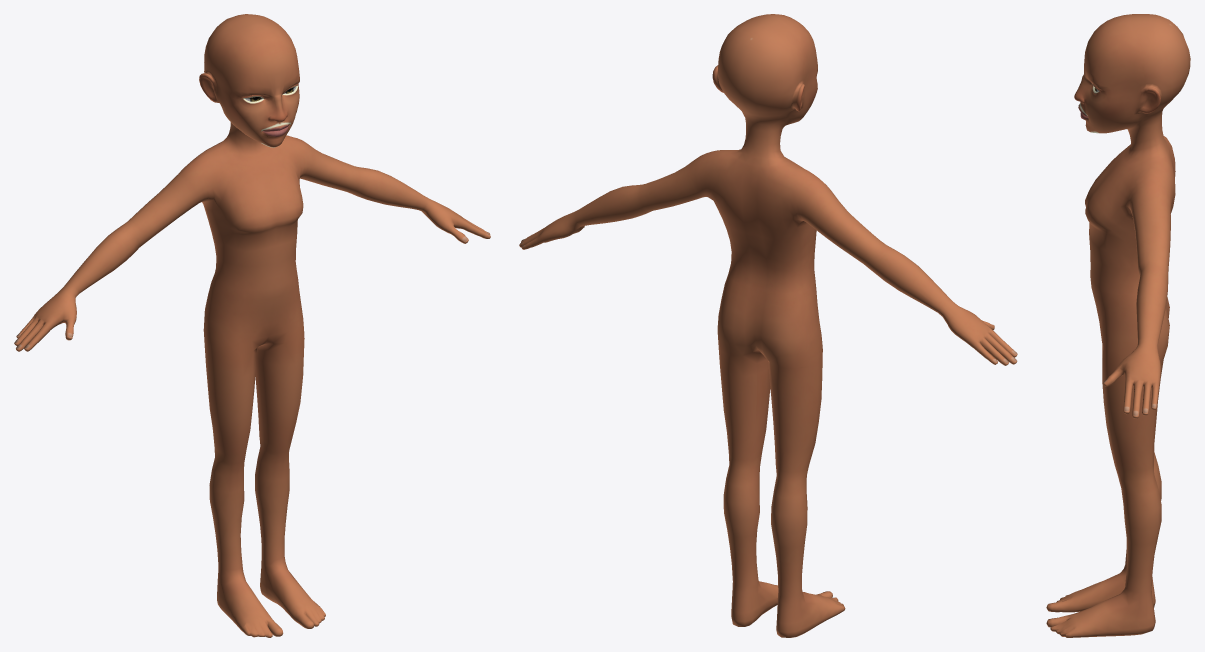
Rendered from frame_0018.glb.
3 renders of one model, left to right at view 1: azimuth 30°, elevation 25°; view 2: azimuth 150°, elevation 25°; view 3: azimuth 270°, elevation 25°, orthographic. The views are drawn at different scales.
Parts seen in each view (by area): view 1: frame_0018_head_geo; view 2: frame_0018_head_geo; view 3: frame_0018_head_geo.
Part boxes in pixels (x1,y1,x2,y2): frame_0018_head_geo: (14, 14, 490, 637); frame_0018_head_geo: (519, 14, 1017, 637); frame_0018_head_geo: (1046, 14, 1190, 637).
Bounding box in the file's own units: 1.28 × 1.5 × 0.3253.
3 materials, 3 textured.
